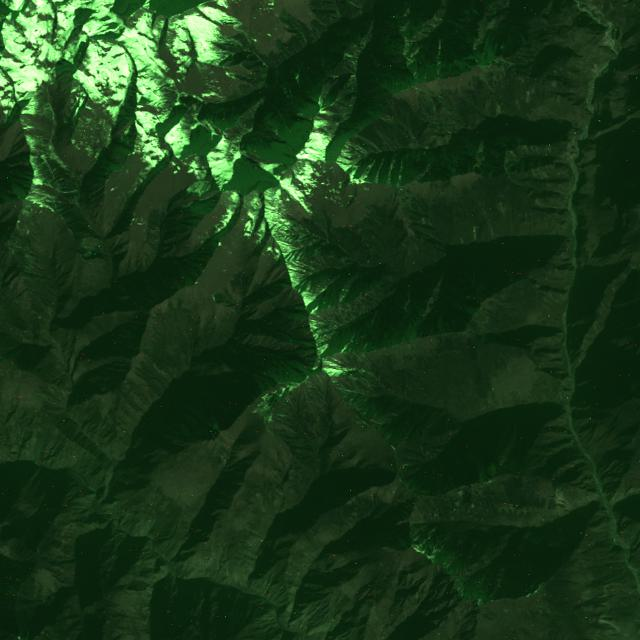landslides: (356, 352, 385, 388), (256, 492, 275, 521), (555, 490, 577, 514), (598, 619, 627, 636), (269, 494, 289, 515), (535, 199, 568, 211), (480, 73, 495, 94), (597, 29, 614, 47), (496, 103, 508, 126), (285, 392, 298, 412), (490, 228, 500, 246), (352, 512, 362, 525), (595, 320, 603, 335), (515, 99, 522, 116), (499, 201, 506, 217)
